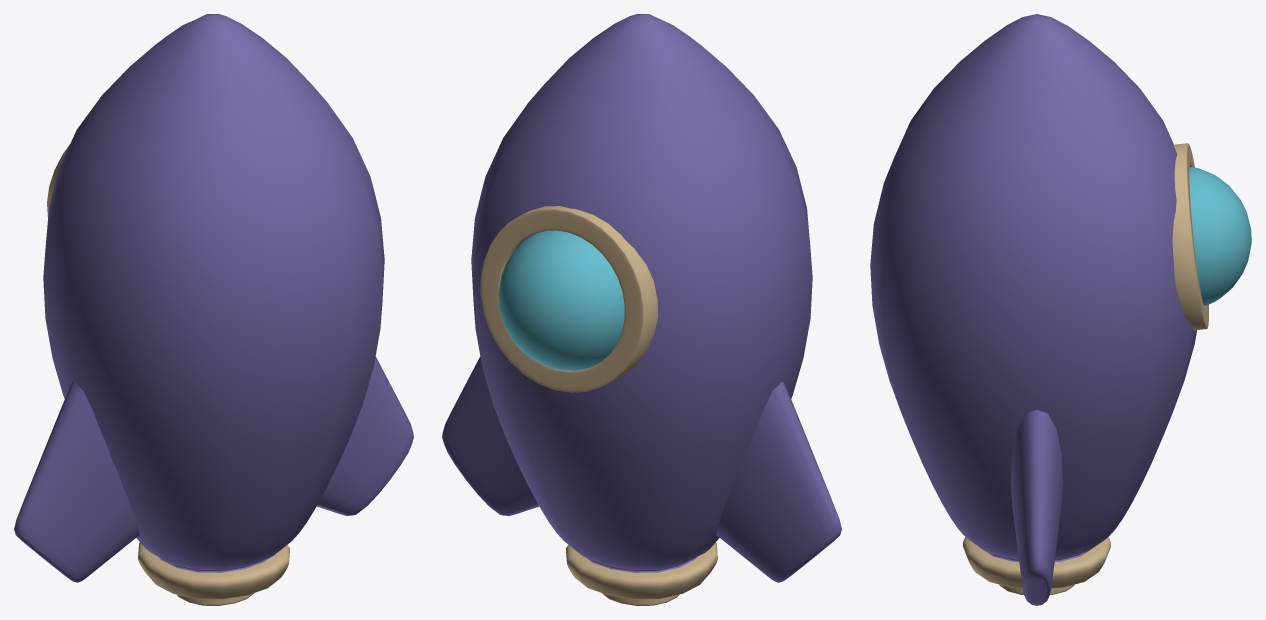
The model's file is Ship Purple.fbx.
The picture shows the model from 3 angles, left to right: view 1: azimuth 30°, elevation 25°; view 2: azimuth 150°, elevation 25°; view 3: azimuth 270°, elevation 25°; orthographic projection.
Visible parts, largest first — view 1: Body, Cube.001, Cube; view 2: Body, Cube.001, Glass Window, Window Cover, Cube; view 3: Body, Cube, Glass Window, Window Cover.
Boxes of the visible parts, x1,y1,x2,y2 form: Body: (43, 14, 384, 605); Cube.001: (14, 382, 139, 582); Cube: (316, 356, 413, 515); Body: (471, 14, 812, 605); Cube.001: (716, 382, 841, 582); Glass Window: (498, 230, 624, 370); Window Cover: (480, 206, 658, 392); Cube: (442, 356, 539, 515); Body: (870, 14, 1196, 594); Cube: (1010, 410, 1063, 605); Glass Window: (1189, 167, 1251, 306); Window Cover: (1172, 143, 1208, 330).
Size of the model in its own units: 325 by 447 by 274.
